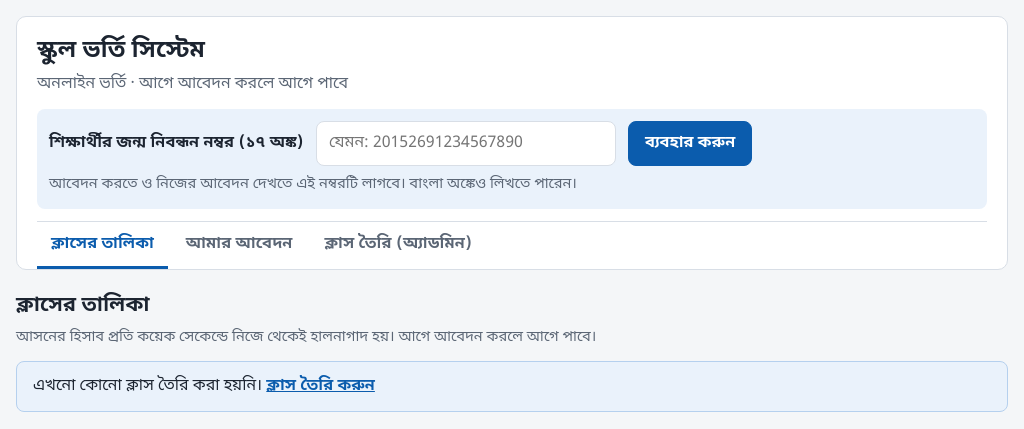
Scenario: App › rejects an invalid student ID with a clear message
The image size is (1024, 429).
Type "12345" into the field labelled "শিক্ষার্থীর জন্ম নিবন্ধন নম্বর (১৭ অঙ্ক)" at x=466, y=143, box [316,121,616,166]
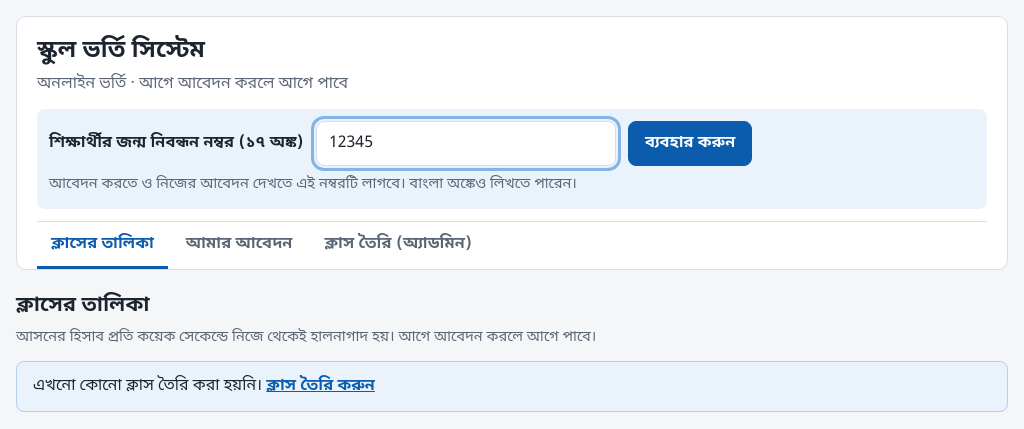
Click the button "ব্যবহার করুন" at x=690, y=143, box [628,121,752,166]
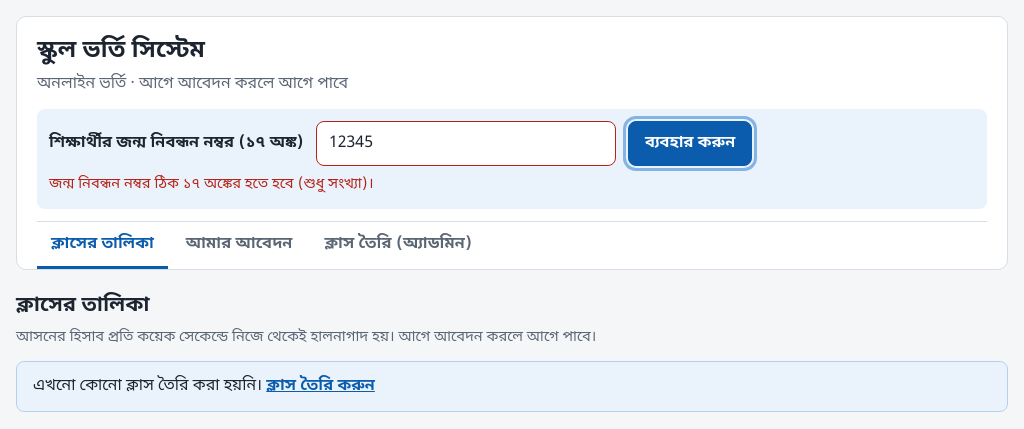
Now the message "জন্ম নিবন্ধন নম্বর ঠিক ১৭ অঙ্কের হতে হবে (শুধু সংখ্যা)।" is shown, box [49,175,374,194]
